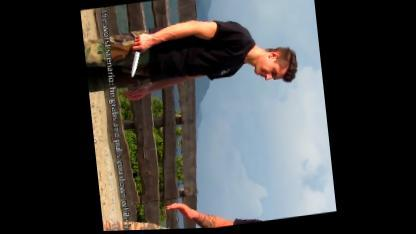knife: (124, 32, 148, 80)
